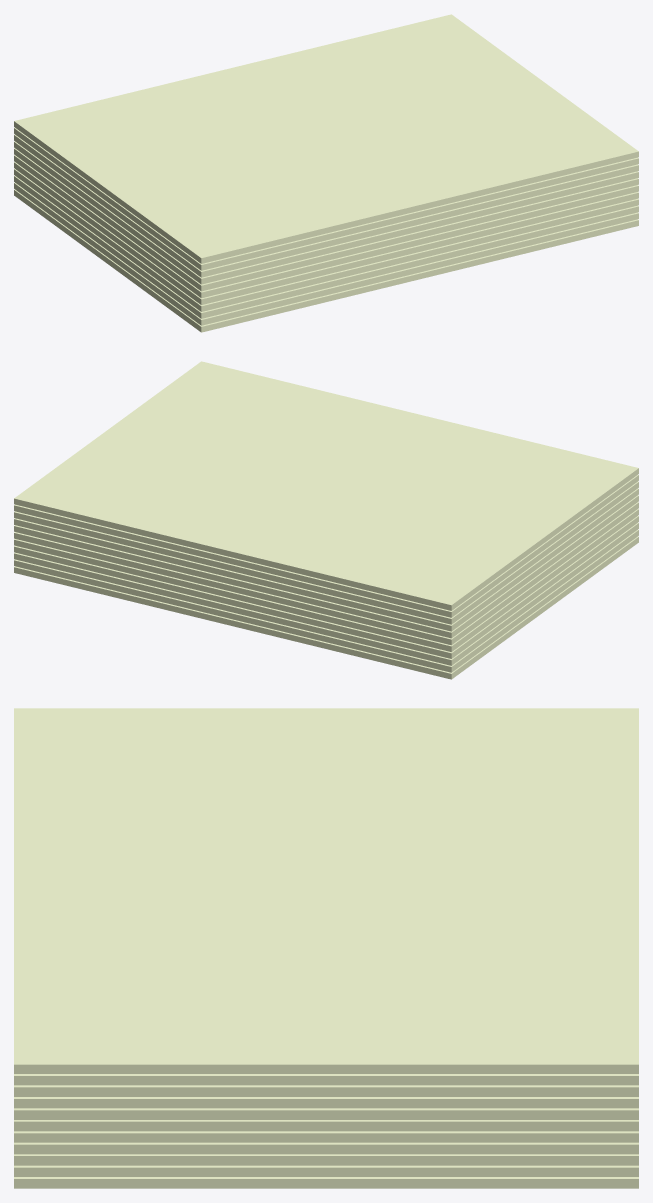
Rendered from pandemonium_napkins.fbx.
The picture shows the model from 3 angles, top to bottom: view 1: azimuth 30°, elevation 25°; view 2: azimuth 150°, elevation 25°; view 3: azimuth 270°, elevation 25°; orthographic projection. The views are drawn at different scales.
Visible parts, largest first — view 1: Plane.019; view 2: Plane.019; view 3: Plane.019.
Boxes of the visible parts, x1,y1,x2,y2 form: Plane.019: (14, 14, 638, 332); Plane.019: (14, 361, 638, 679); Plane.019: (14, 708, 638, 1188).
Size of the model in its own units: 60.56 by 9.84 by 44.93.
